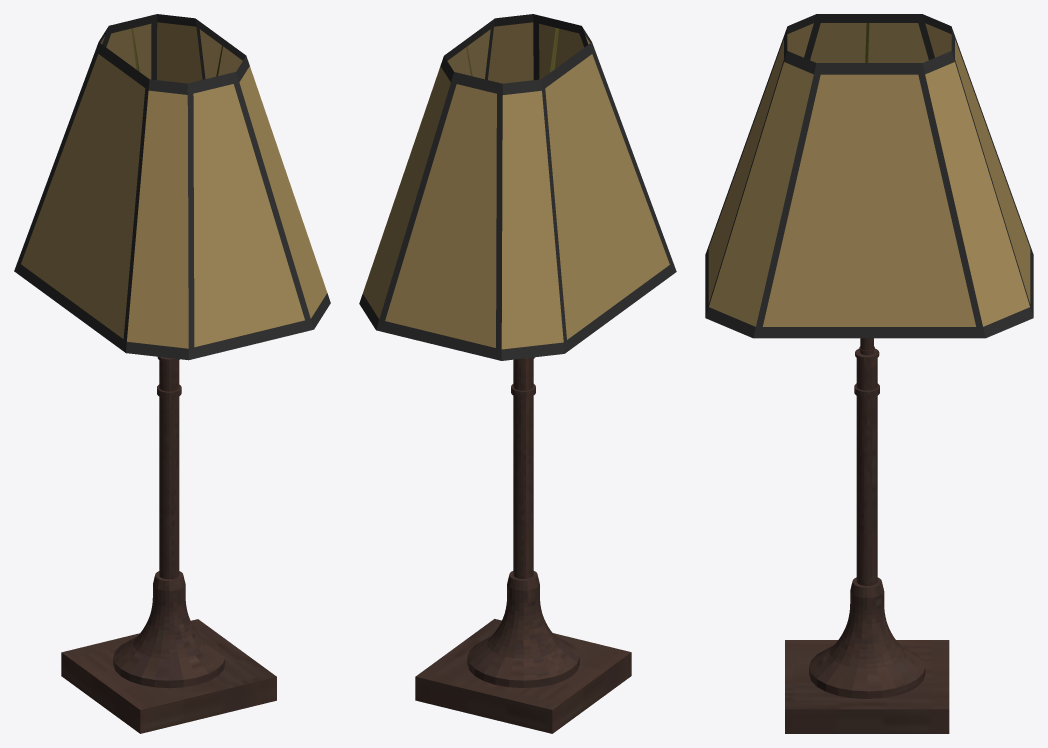
File: original.glb
The picture shows the model from 3 angles, left to right: view 1: azimuth 30°, elevation 25°; view 2: azimuth 150°, elevation 25°; view 3: azimuth 270°, elevation 25°; orthographic projection. The views are drawn at different scales.
Parts seen in each view (by area): view 1: world; view 2: world; view 3: world.
Boxes of the visible parts, left/top/right/bottom form: world: left=14, top=14, right=330, bottom=733; world: left=359, top=14, right=676, bottom=733; world: left=705, top=14, right=1033, bottom=733.
Bounding box in the file's own units: 0.2935 × 0.8722 × 0.3913.
Materials: 1 (1 with a texture image).
